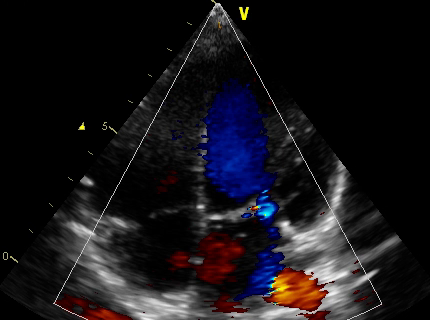MR: (209, 188, 300, 241)
